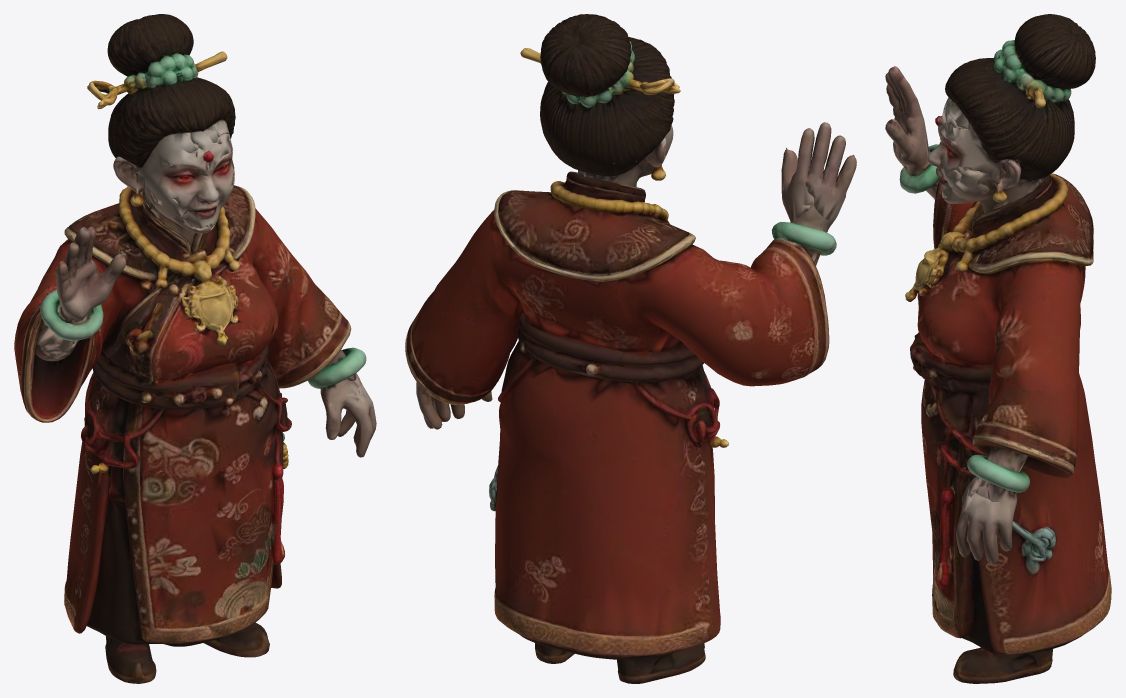
File: mob_lisheng.glb
3 renders of one model, left to right at view 1: azimuth 30°, elevation 25°; view 2: azimuth 150°, elevation 25°; view 3: azimuth 270°, elevation 25°, orthographic. The views are drawn at different scales.
Visible parts, largest first — view 1: tripo_node_efce6f03-5efc-42c3-8e82-d7ef9ae70e74; view 2: tripo_node_efce6f03-5efc-42c3-8e82-d7ef9ae70e74; view 3: tripo_node_efce6f03-5efc-42c3-8e82-d7ef9ae70e74.
Boxes of the visible parts, x1,y1,x2,y2 form: tripo_node_efce6f03-5efc-42c3-8e82-d7ef9ae70e74: (14, 14, 376, 683); tripo_node_efce6f03-5efc-42c3-8e82-d7ef9ae70e74: (405, 14, 856, 683); tripo_node_efce6f03-5efc-42c3-8e82-d7ef9ae70e74: (885, 14, 1111, 683).
Bounding box in the file's own units: 0.6054 × 0.9792 × 0.3194.
Materials: 1 (1 with a texture image).
